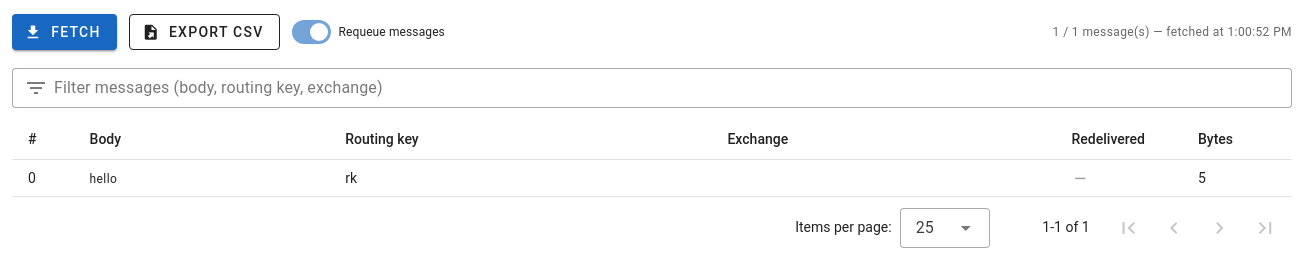
Test: QueueMessageList › shows a dedicated empty-state message when the filter matches nothing
Type "zzz-no-match" into the field labelled "Filter messages (body, routing key, exchange)" at (664, 88), box [48, 68, 1280, 108]
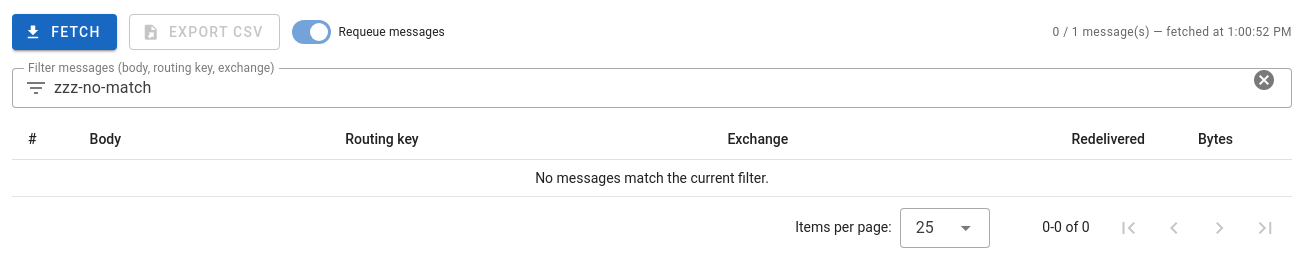
Now the text "No messages match the current filter." is shown, box [12, 160, 1292, 196]
